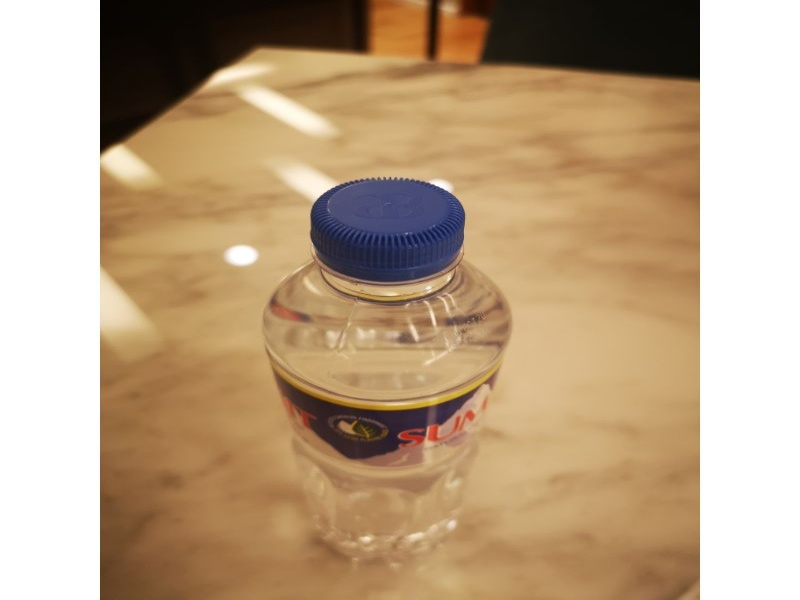PET #1: (258, 177, 511, 573)
